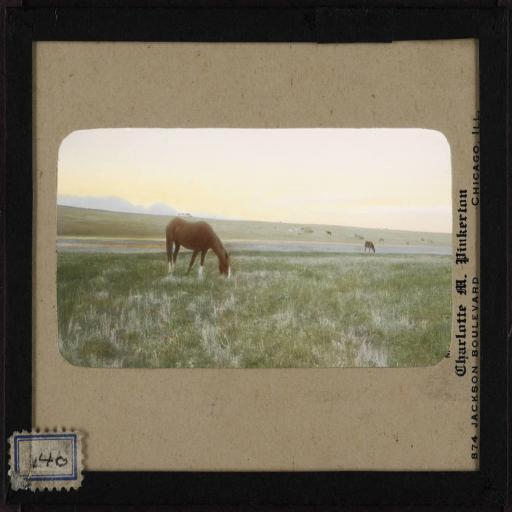Horse: (165, 217, 231, 282), (364, 242, 374, 253)
